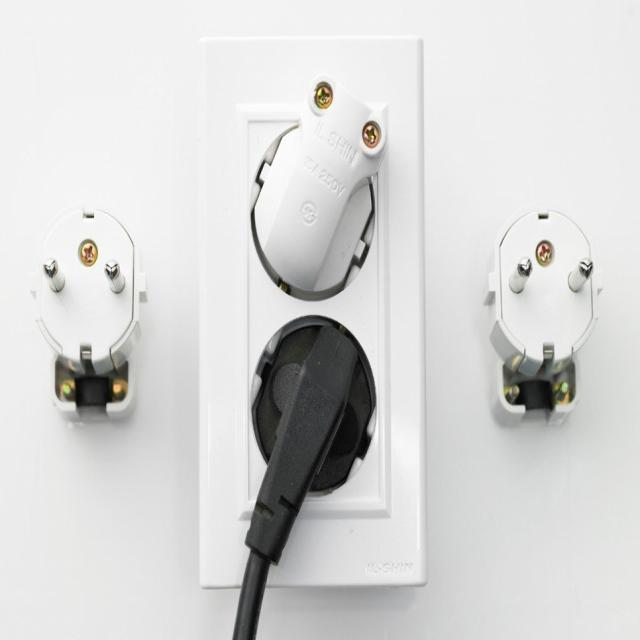typeb: (178, 25, 452, 629)
